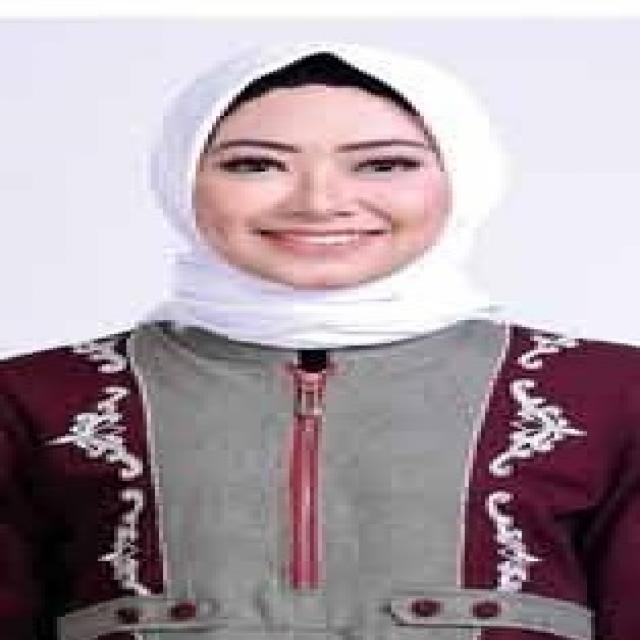head: (167, 30, 479, 298)
